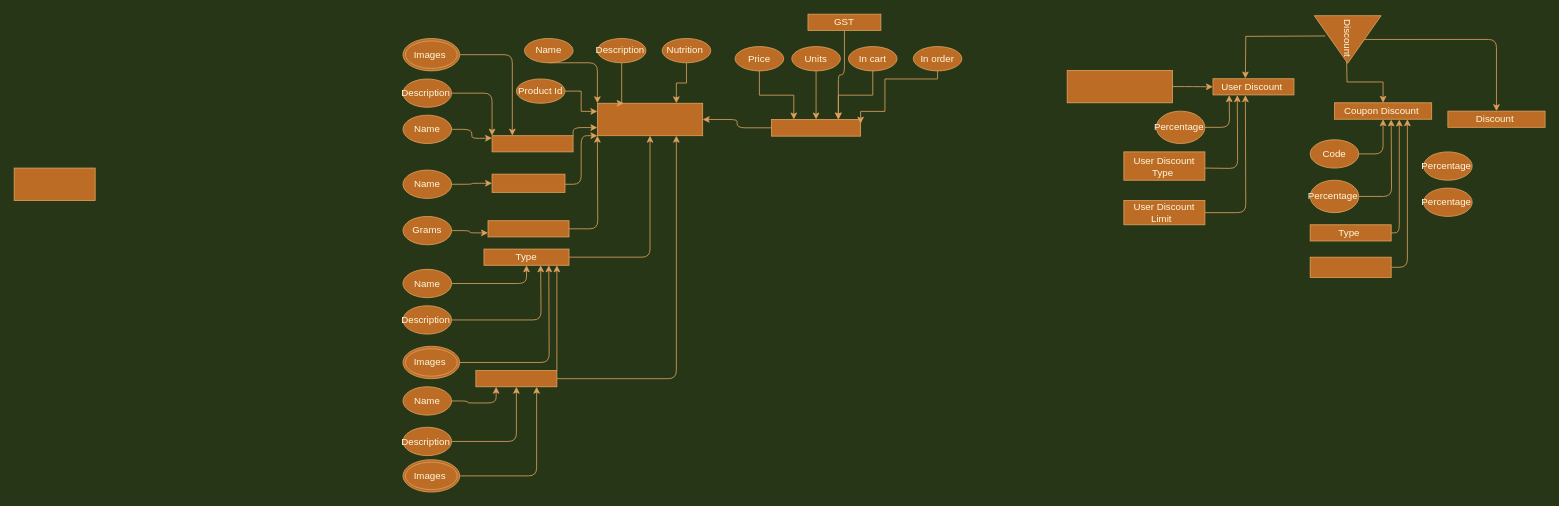
Image size: 1559x506. Some labels were removed from this diagram. The centre of each missing label's shape, as x and y in pixels:
"Accessory" belongs at pixel 54 183.
"Brand" belongs at pixel 532 143.
"Edible Products" belongs at pixel 650 119.
"Flavor" belongs at pixel 528 182.
"Limit" belongs at pixel 1350 266.
"Product Details" belongs at pixel 816 127.
"Sub Type" belongs at pixel 516 378.
"User" belongs at pixel 1119 86.
"Weight" belongs at pixel 528 228.
